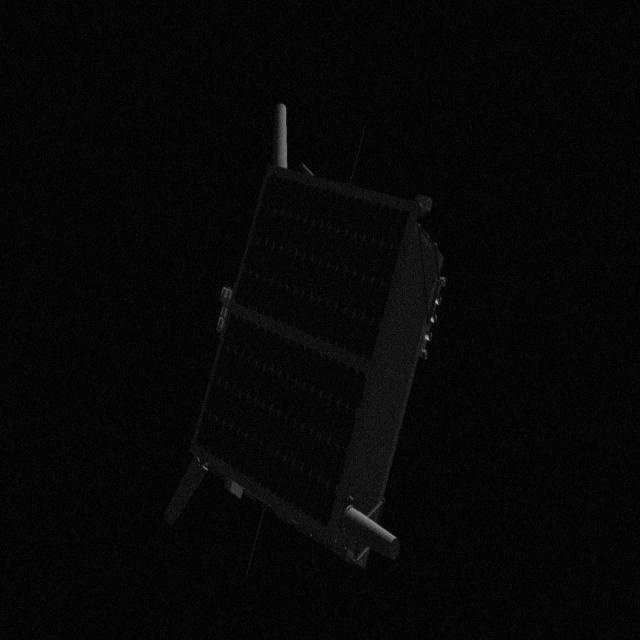satellite: (158, 94, 464, 572)
